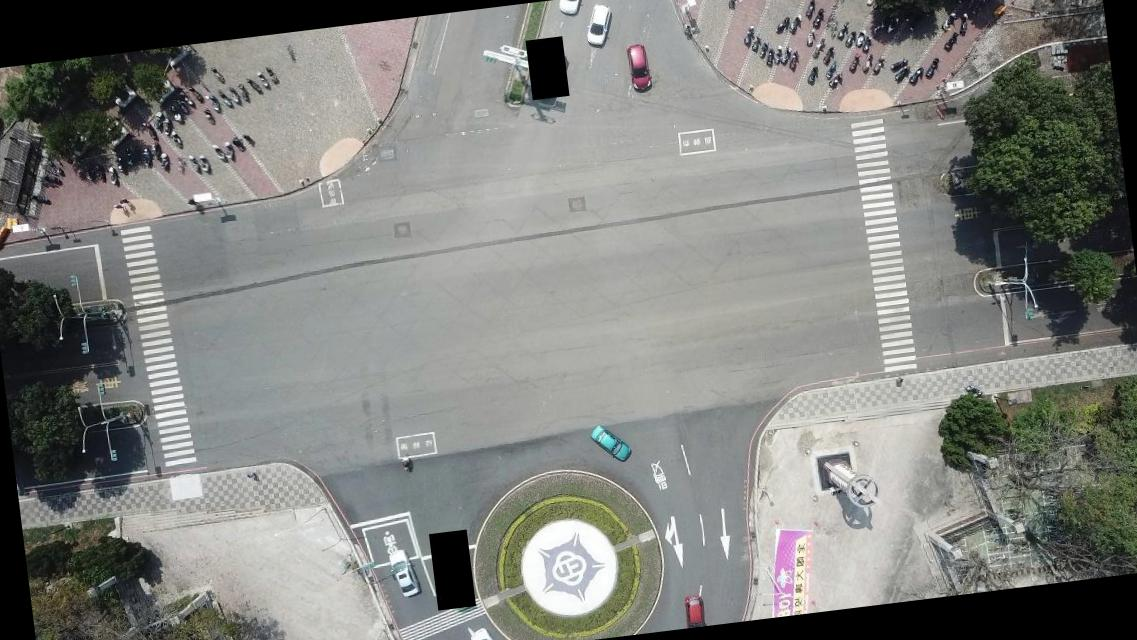vehicle: (586, 420, 632, 464), (384, 548, 420, 598), (622, 42, 653, 97), (581, 2, 616, 48), (678, 590, 706, 628), (555, 0, 586, 20), (466, 625, 502, 639)
